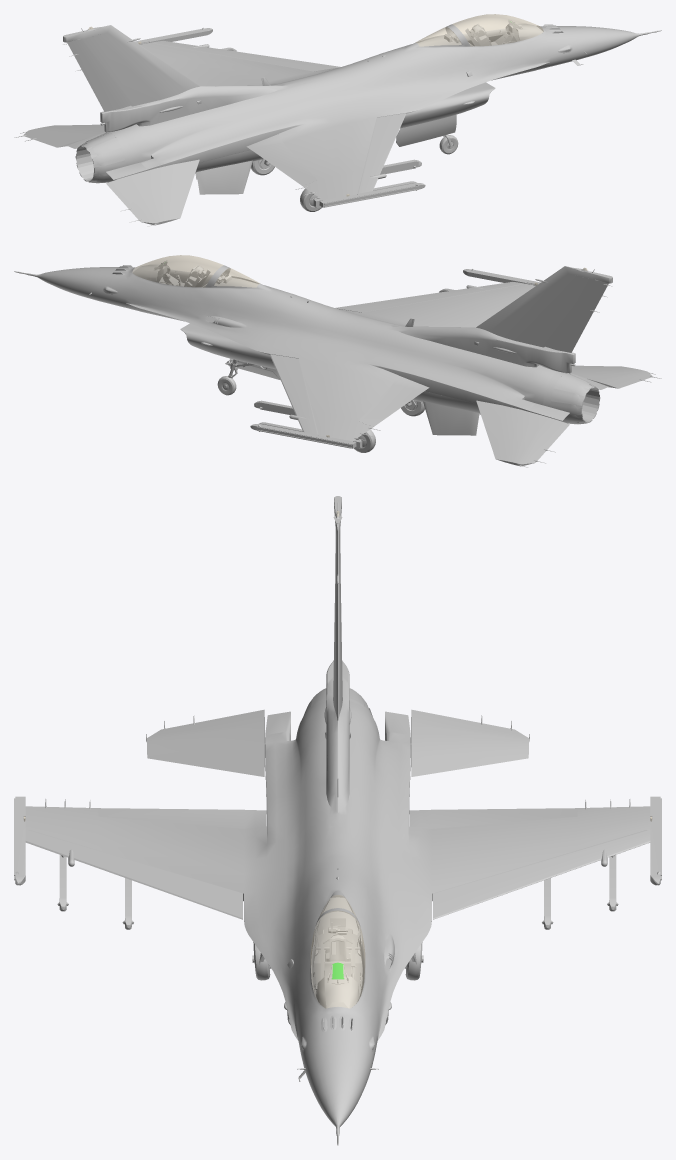
3 views of the same model, one above another, from view 1: azimuth 30°, elevation 25°; view 2: azimuth 150°, elevation 25°; view 3: azimuth 270°, elevation 25° (orthographic). The views are drawn at different scales.
Parts seen in each view (by area): view 1: F-16-airframe_0, F-16-canopy_1, F-16-landingOn_6, F-16-cockpit_2, F-16-rails_8; view 2: F-16-airframe_0, F-16-canopy_1, F-16-cockpit_2, F-16-landingOn_6, F-16-rails_8; view 3: F-16-airframe_0, F-16-canopy_1, F-16-cockpit_2, F-16-rails_8.
Part boxes in pixels (<box>): F-16-airframe_0: <box>14,24,661,226</box>; F-16-canopy_1: <box>415,14,543,46</box>; F-16-landingOn_6: <box>251,114,458,211</box>; F-16-cockpit_2: <box>416,19,543,46</box>; F-16-rails_8: <box>220,47,421,207</box>; F-16-airframe_0: <box>14,265,661,467</box>; F-16-canopy_1: <box>132,255,260,287</box>; F-16-cockpit_2: <box>132,260,259,287</box>; F-16-landingOn_6: <box>217,358,424,452</box>; F-16-rails_8: <box>254,288,455,448</box>; F-16-airframe_0: <box>14,496,661,1145</box>; F-16-canopy_1: <box>310,895,365,1008</box>; F-16-cockpit_2: <box>311,895,364,1008</box>; F-16-rails_8: <box>57,855,618,929</box>.
Bounding box in the file's own units: 151 × 51.81 × 93.94.
